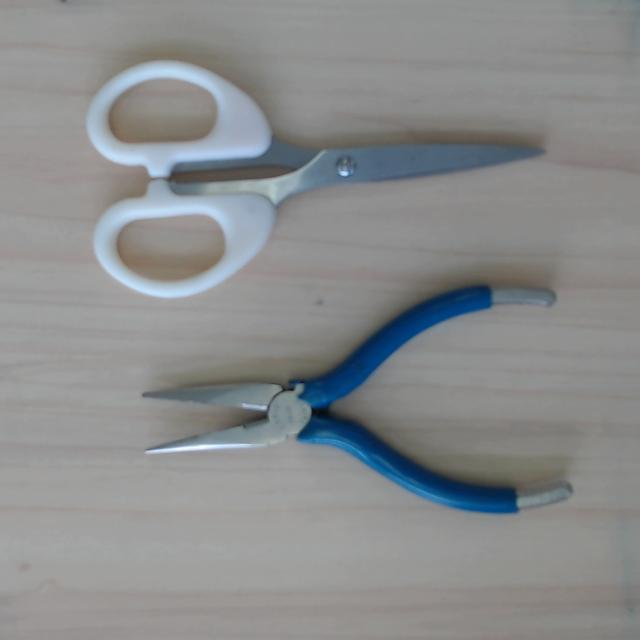Gunting: (49, 44, 544, 376)
Tang-Jepit-Biru: (135, 280, 572, 542)
